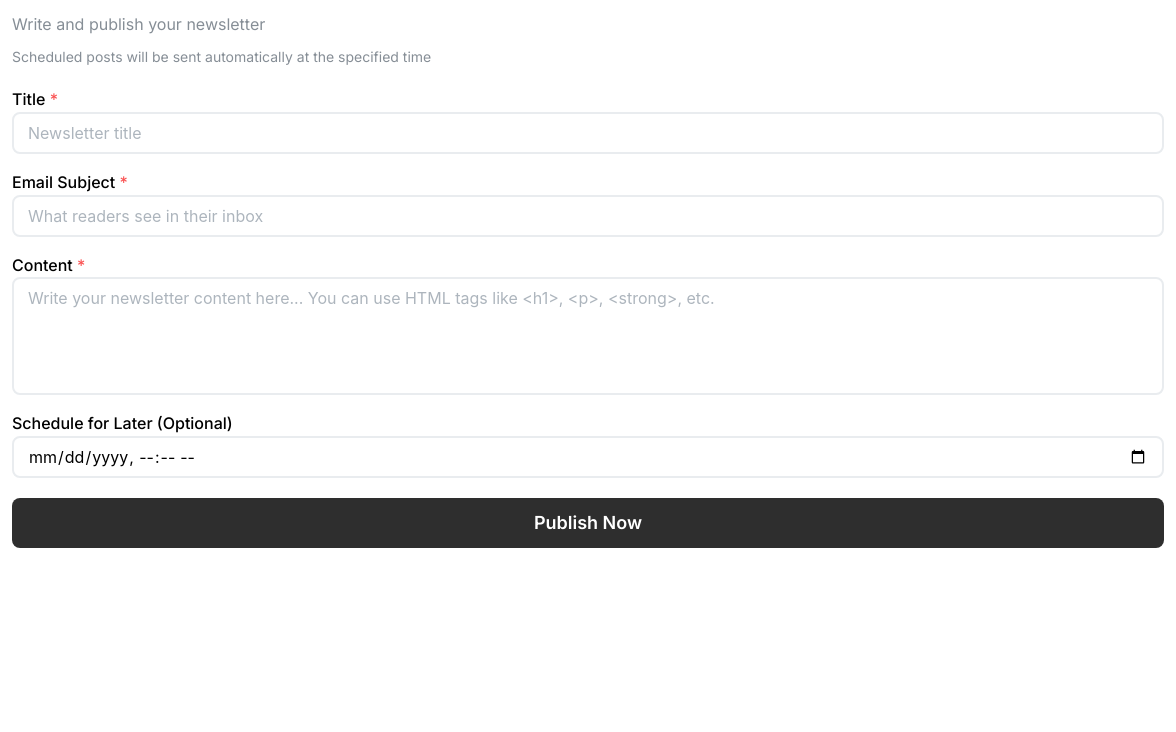
AuthorPost › shows loading state during submission
The width and height of the screenshot is (1176, 732).
In the field labelled "Title *": (588, 133) [12, 112, 1164, 154], type "Test Newsletter"
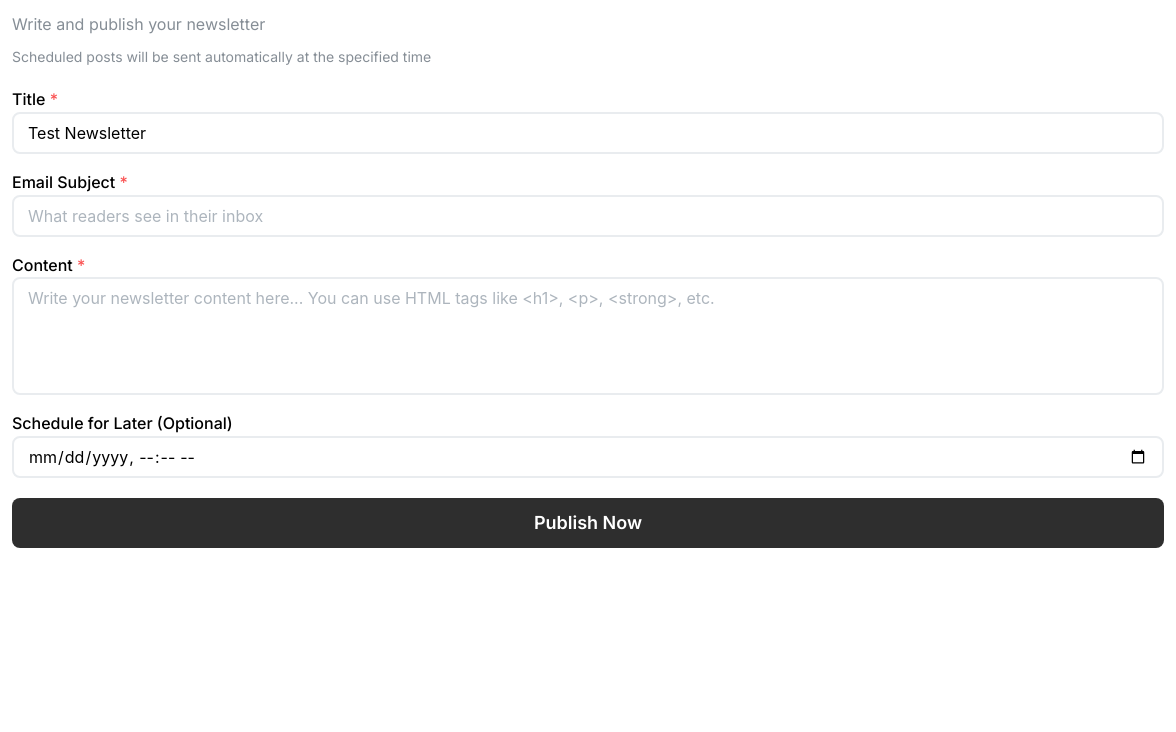
In the field labelled "Email Subject *": (588, 216) [12, 195, 1164, 237], type "Test Subject"
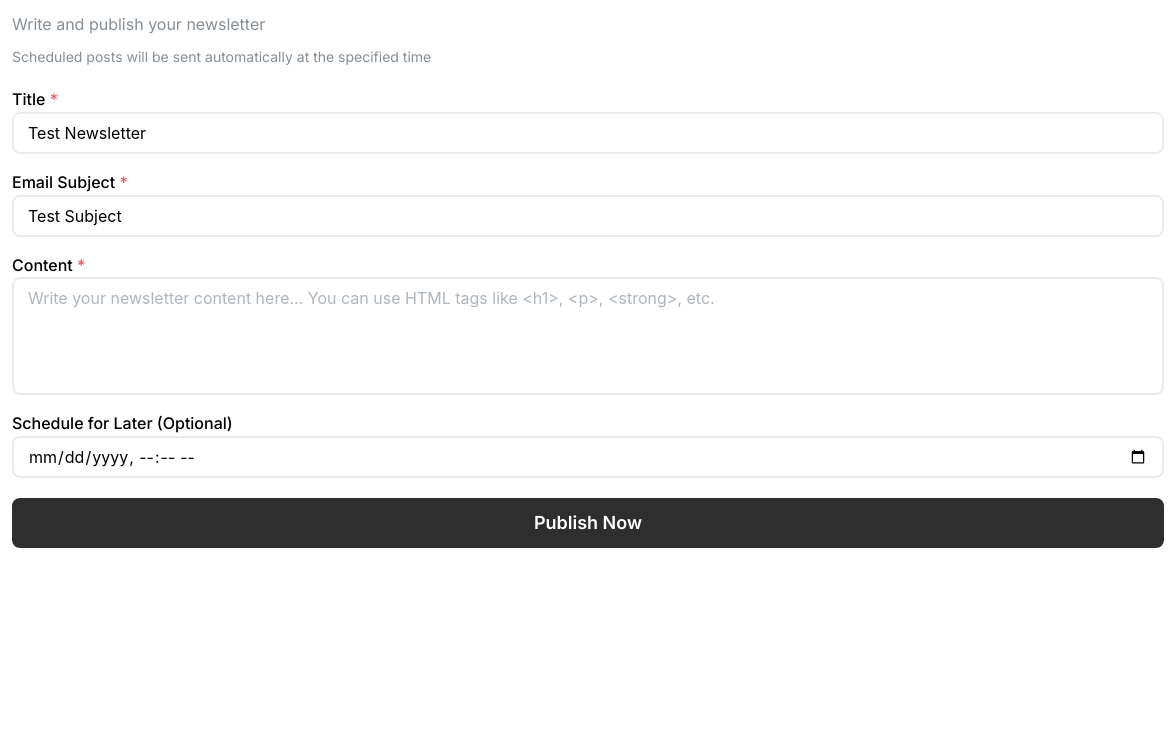
In the text box labelled "Content *": (588, 336) [12, 278, 1164, 396], type "This is test content"
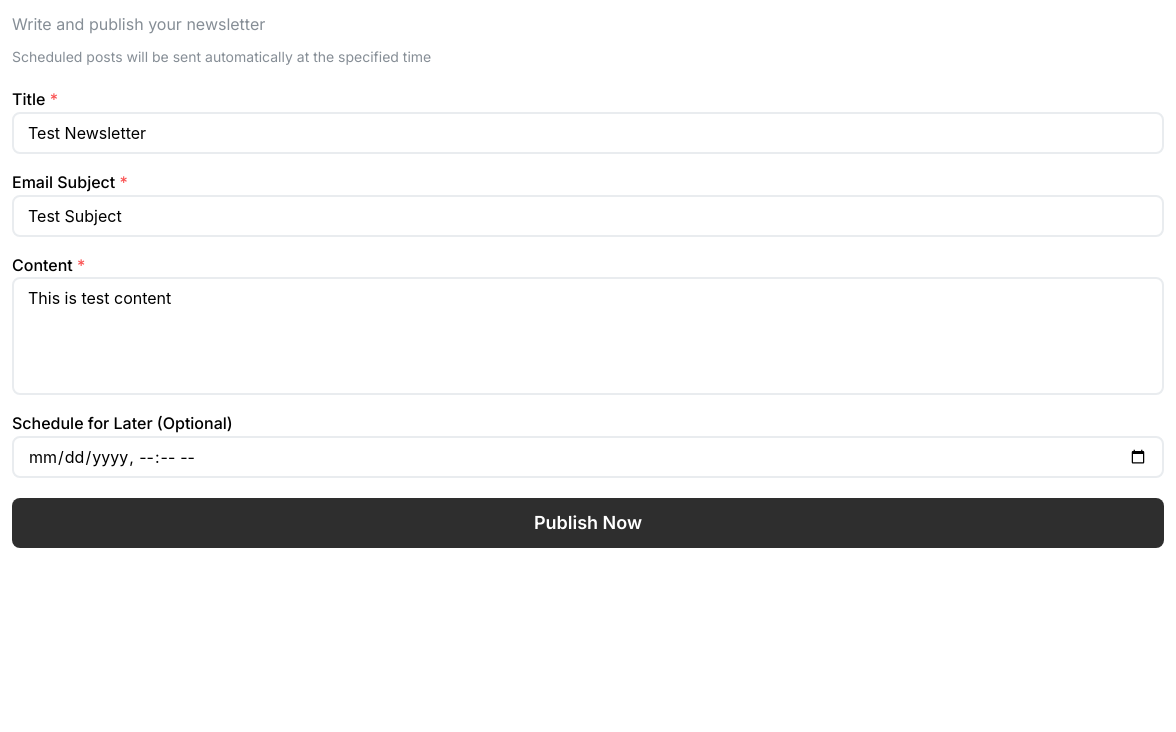
Click the button "Publish Now": (588, 523) [12, 498, 1164, 548]
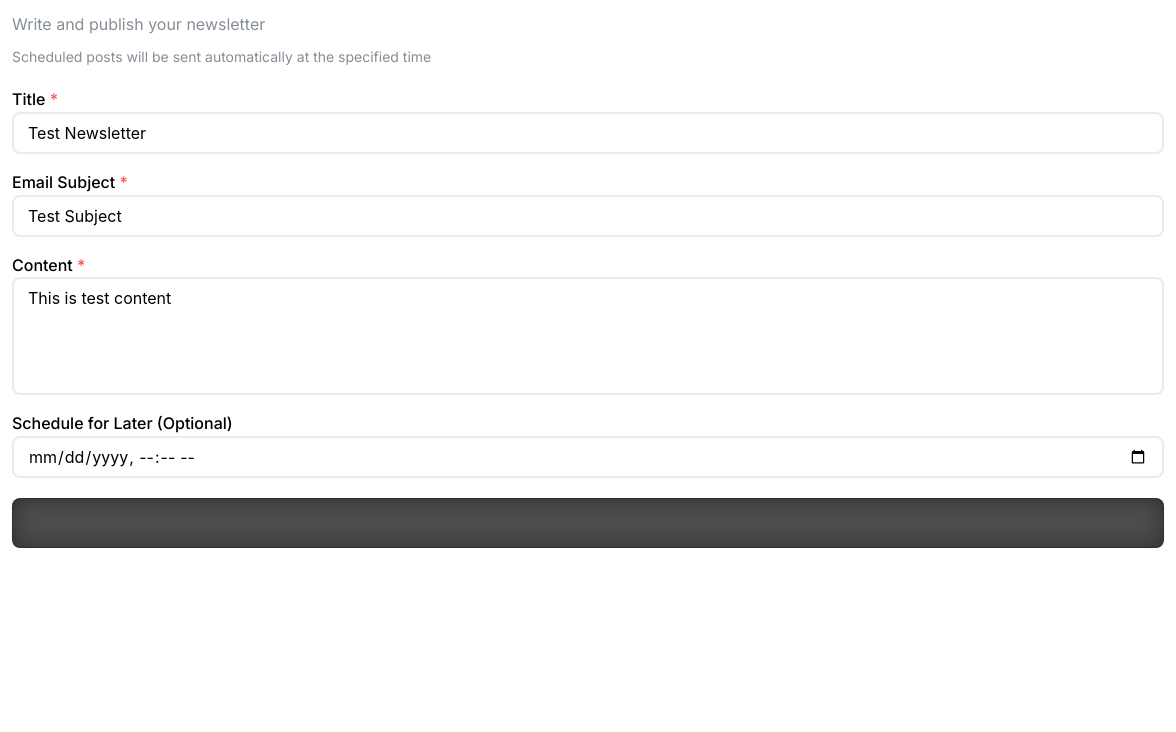
Result: the button named "publish" is disabled at [12, 498, 1164, 548]
